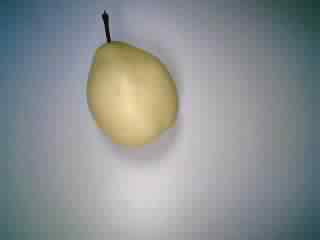pear: (75, 9, 184, 155)
